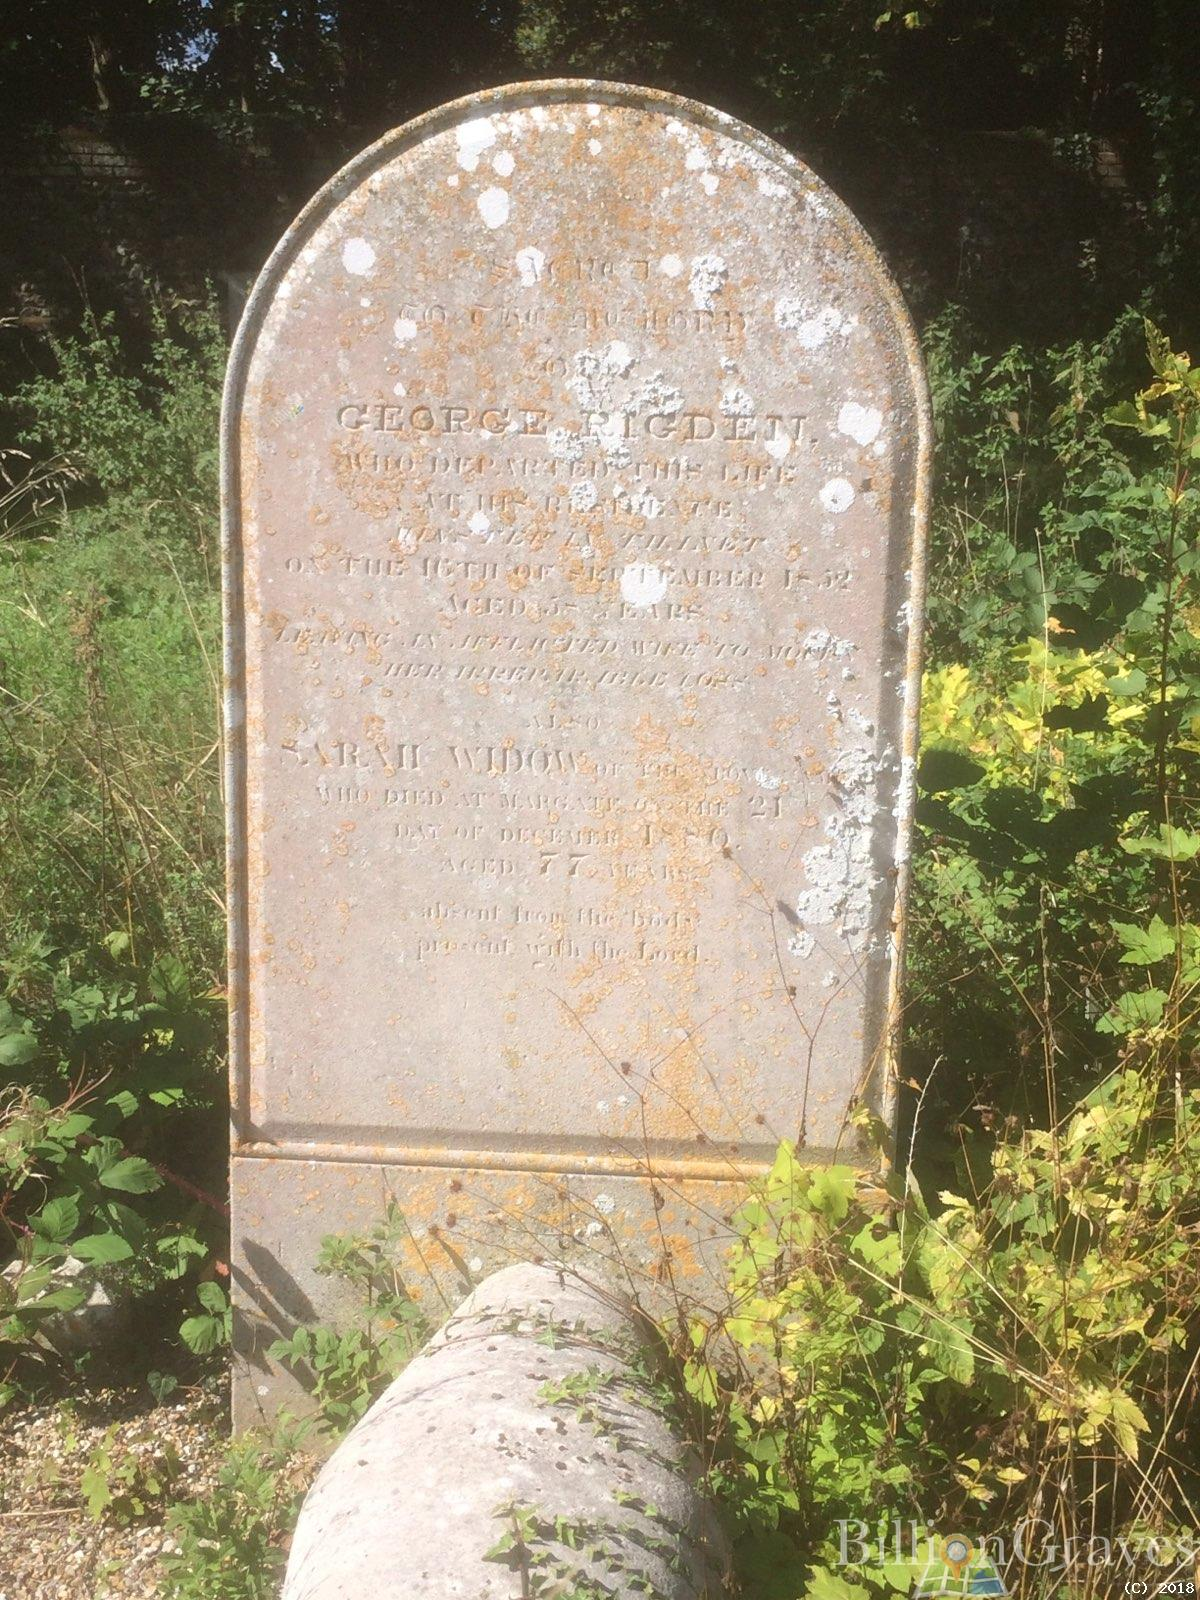upright: (221, 78, 932, 1456)
